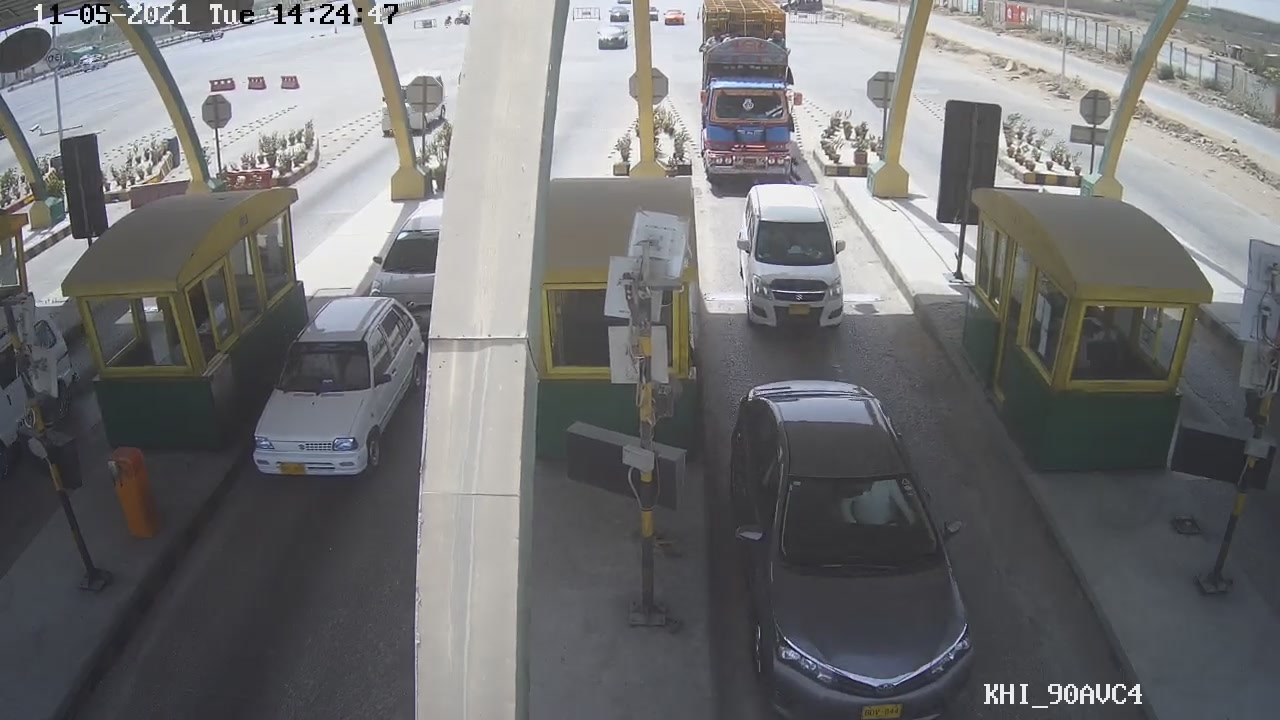F1: (732, 177, 850, 337)
